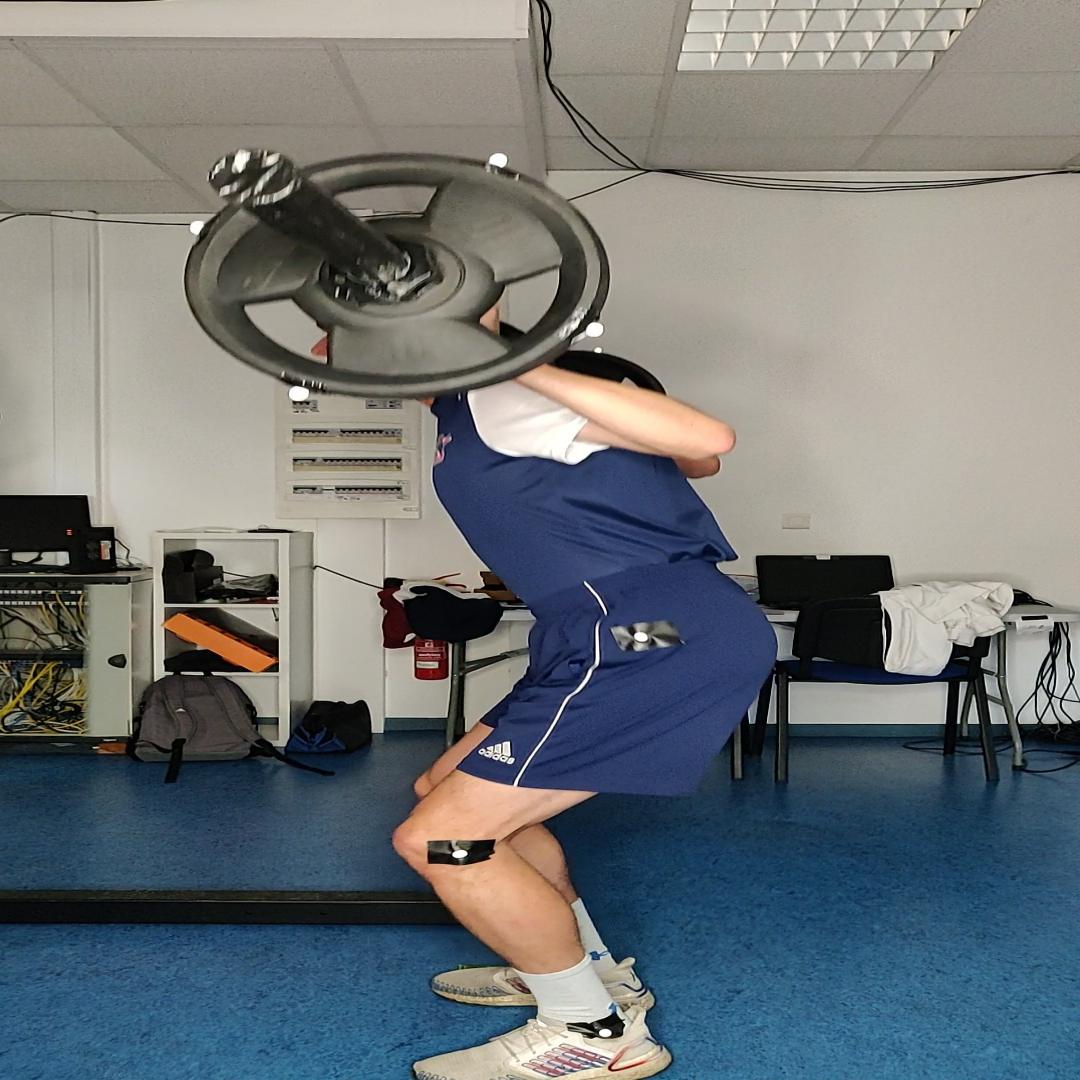Bar: (208, 149, 301, 206)
Barbell: (183, 152, 609, 399)
